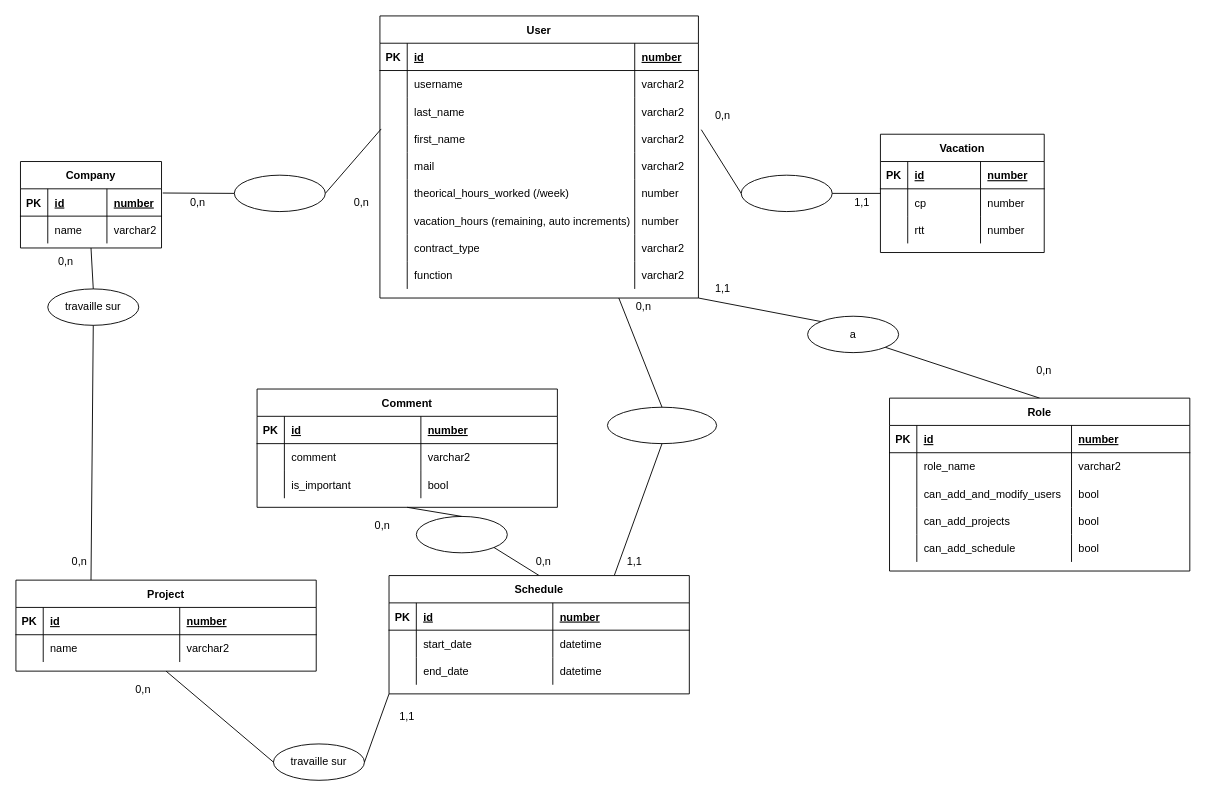
Some shapes in this 1206 by 796 pixel diagram are drawn without their labels. The centre of each missing label's shape, as x and y in pixels:
"embauche" goes at point (279, 193).
"est associé à" goes at point (461, 534).
"prend" goes at point (786, 193).
"travaille pendant" goes at point (662, 425).
